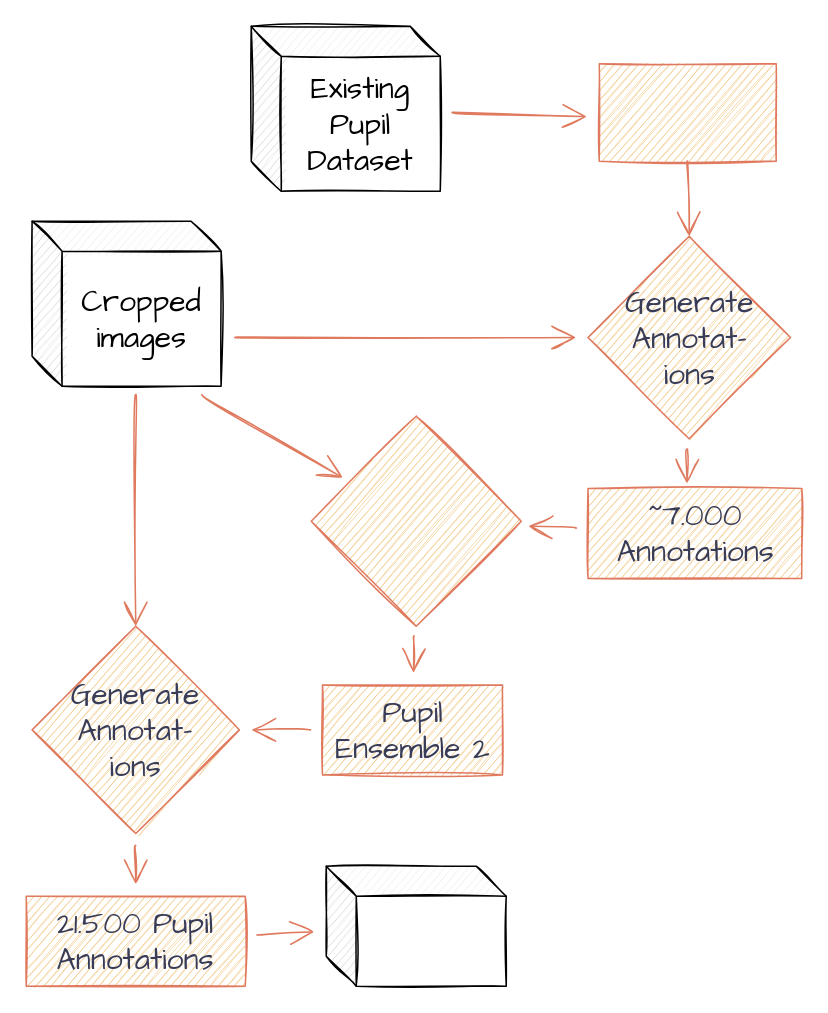
Some shapes in this 828 by 1013 pixel diagram are drawn without their labels. Each missing label, with the centre of its shape:
"Final Dataset" belongs at point 415,925.
"Pupil Ensamble" belongs at point 687,111.
"Train Ensemble" belongs at point 415,520.
